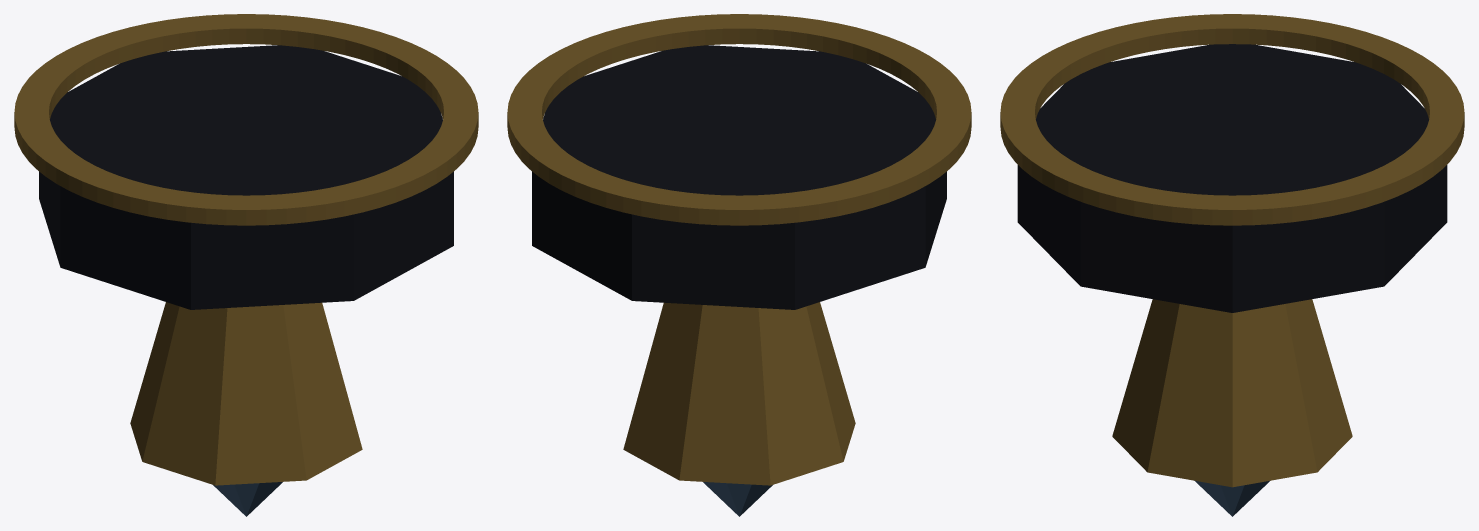
Rendered from vmt_phase_a_roof_anchor_dormant.obj.
3 views of the same model, side by side, from view 1: azimuth 30°, elevation 25°; view 2: azimuth 150°, elevation 25°; view 3: azimuth 270°, elevation 25° (orthographic).
Visible parts, largest first — view 1: VMT_PhaseA_RoofAnchor_Dormant; view 2: VMT_PhaseA_RoofAnchor_Dormant; view 3: VMT_PhaseA_RoofAnchor_Dormant.
Part boxes in pixels (x1=…): VMT_PhaseA_RoofAnchor_Dormant: x1=14, y1=14, x2=478, y2=516; VMT_PhaseA_RoofAnchor_Dormant: x1=507, y1=14, x2=971, y2=516; VMT_PhaseA_RoofAnchor_Dormant: x1=1000, y1=14, x2=1464, y2=516.
Size of the model in its own units: 1.62 by 1.56 by 1.62.
